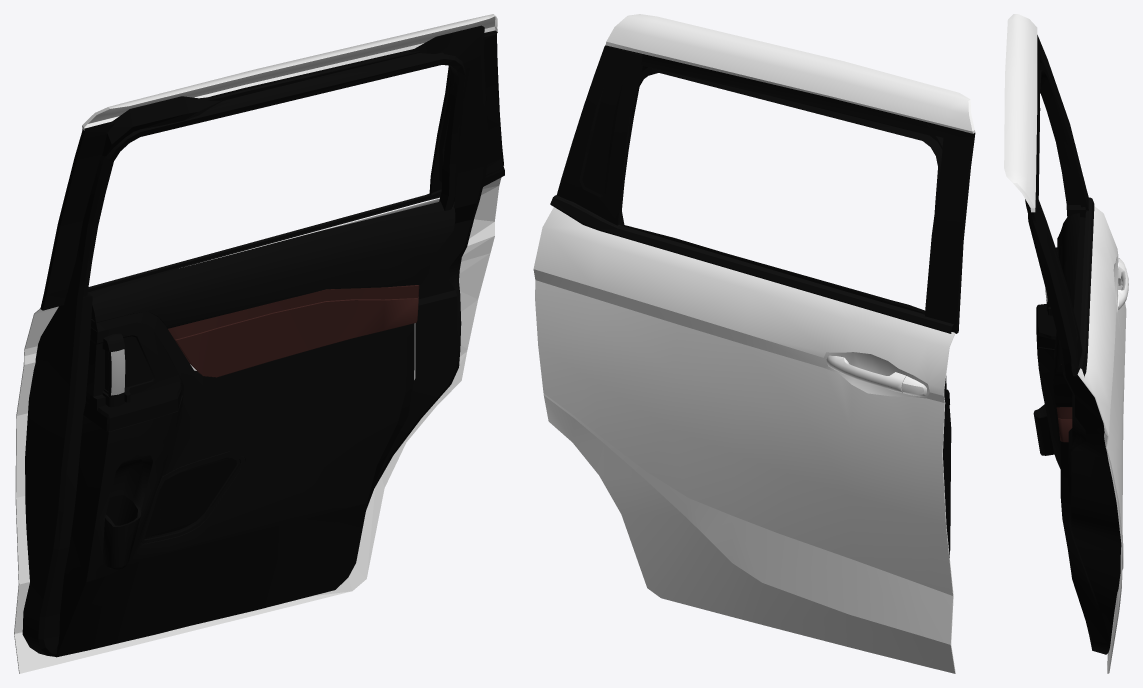
Rendered from door_back_right.FBX.
The picture shows the model from 3 angles, left to right: view 1: azimuth 30°, elevation 25°; view 2: azimuth 150°, elevation 25°; view 3: azimuth 270°, elevation 25°; orthographic projection. The views are drawn at different scales.
Parts seen in each view (by area): view 1: 右侧门控制; view 2: 右侧门控制; view 3: 右侧门控制.
Part boxes in pixels (left/top/right/bottom): 右侧门控制: left=14, top=14, right=504, bottom=673; 右侧门控制: left=533, top=14, right=975, bottom=673; 右侧门控制: left=1004, top=14, right=1128, bottom=673.
Size of the model in its own units: 40.54 by 48.94 by 10.31.
